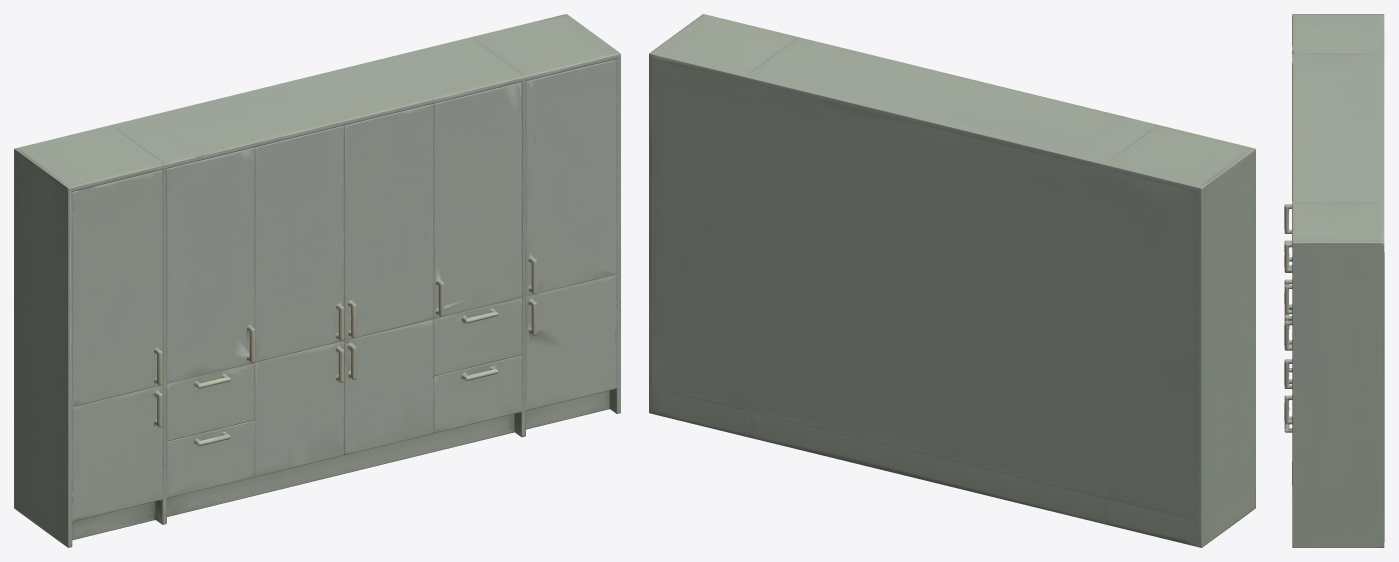
3 views of the same model, side by side, from view 1: azimuth 30°, elevation 25°; view 2: azimuth 150°, elevation 25°; view 3: azimuth 270°, elevation 25° (orthographic). The views are drawn at different scales.
Visible parts, largest first — view 1: material; view 2: material; view 3: material.
Boxes of the visible parts, left/top/right/bottom form: material: left=14, top=14, right=620, bottom=547; material: left=649, top=14, right=1255, bottom=547; material: left=1284, top=14, right=1384, bottom=547.
Bounding box in the file's own units: 1.01 × 0.6269 × 0.1862.
Materials: 1 (1 with a texture image).
